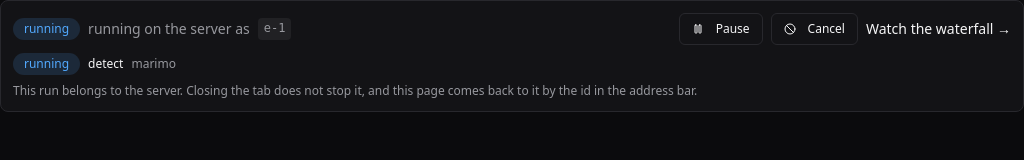
commanding a managed run › re-reads the run when the server accepted the command
Click the button "Pause": (721, 29) [679,13,763,45]
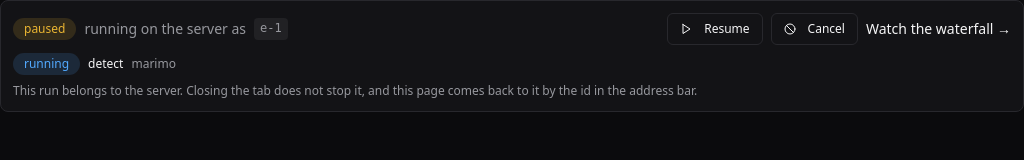
Now the button "Resume" is shown, box [667,13,763,45]
